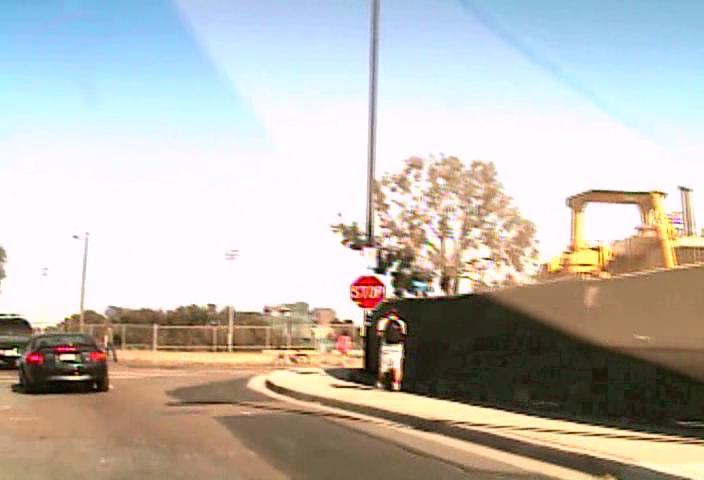stop: (348, 275, 386, 309)
